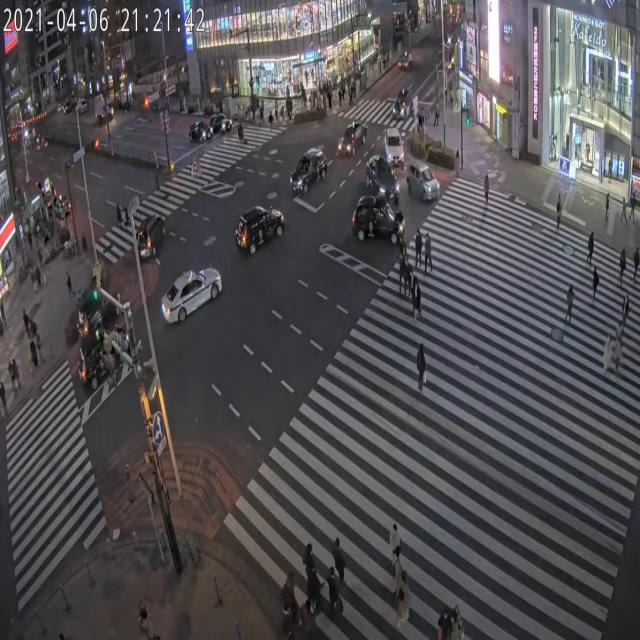humans: (322, 560, 345, 631), (273, 575, 298, 640), (557, 272, 575, 332), (412, 340, 430, 398), (386, 517, 401, 576), (304, 561, 318, 618), (302, 532, 316, 588), (401, 563, 412, 625), (618, 293, 634, 332), (604, 325, 615, 379), (589, 264, 600, 318), (449, 604, 465, 640), (335, 533, 347, 580), (482, 169, 495, 209), (582, 234, 596, 270), (395, 582, 405, 631), (438, 605, 452, 640), (399, 253, 409, 302), (394, 547, 403, 596), (399, 238, 409, 281), (424, 231, 434, 273), (412, 278, 423, 316), (414, 227, 423, 273), (616, 342, 628, 376), (405, 258, 414, 303), (554, 194, 564, 234), (631, 243, 640, 284), (618, 248, 626, 287)
